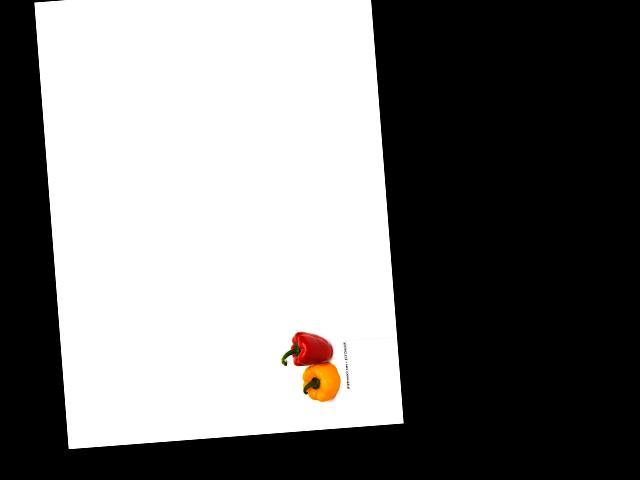bell_pepper: (298, 359, 345, 405)
